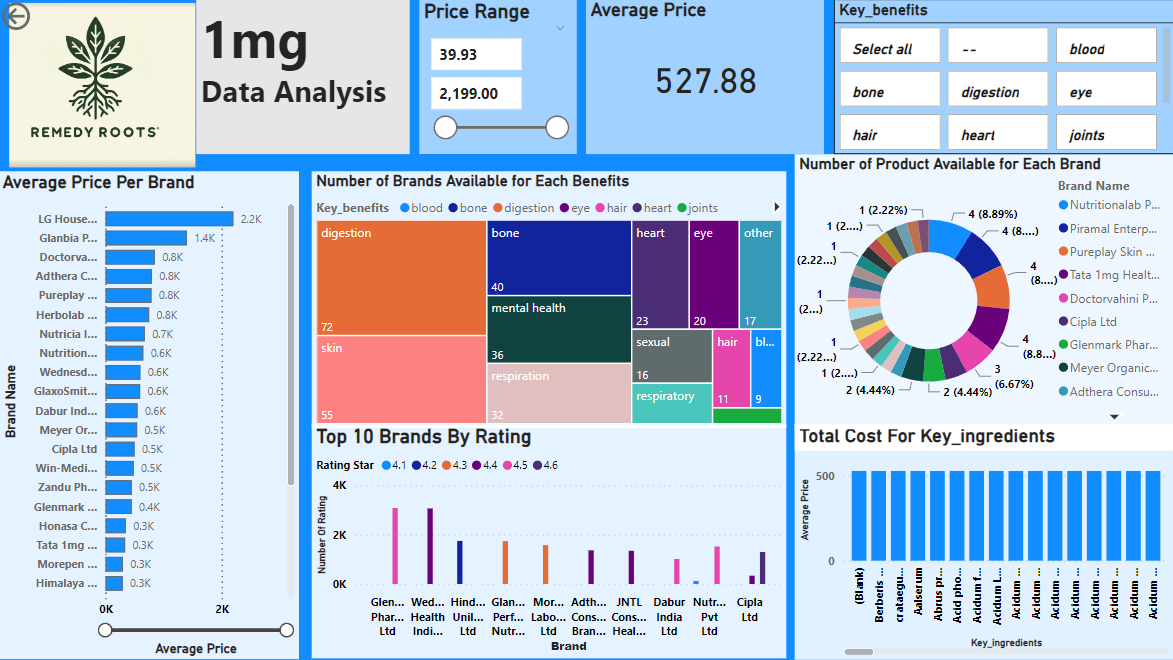

What the dashboard file says about the page in this screenshot:
{"tool":"powerbi","page":{"name":"Page 1","canvas":[1280,720],"ordinal":0},"visuals":[{"type":"image","box":[0,0,227.7,189],"z":0},{"type":"barChart","title":"Average Price Per Brand","fields":{"Category":["merged_file.Brand Name"],"Y":["Avg(merged_file.mrp_bottle)"]},"box":[0,189,327.4,531.3],"z":1000},{"type":"clusteredColumnChart","title":"Total Cost For Key_ingredients","fields":{"Category":["Merge1.Key_ingredients"],"Y":["Avg(merged_file.mrp_bottle)"]},"box":[867.7,464.4,412.3,256],"z":2000},{"type":"donutChart","title":"Number of Product Available for Each Brand ","fields":{"Category":["merged_file.Brand Name"],"Y":["CountNonNull(merged_file.name)"]},"box":[867.7,169.7,412.3,299.2],"z":3000},{"type":"clusteredColumnChart","title":"Top 10 Brands By Rating","fields":{"Category":["merged_file.Brand Name"],"Series":["merged_file.Rating Star"],"Y":["Avg(merged_file.Rating_Number)"]},"box":[340.8,464.4,516.5,254.5],"z":4000},{"type":"treemap","title":"Number of Brands Available for Each Benefits ","fields":{"Values":["CountNonNull(Merge1.brand_name)"],"Details":["Merge1.Key_benefits "]},"box":[340.8,189,516.5,279.8],"z":5000},{"type":"advancedSlicerVisual","title":"Key_benefits  ","fields":{"Values":["Merge1.Key_benefits "]},"box":[909.4,1.5,370.6,168.2],"z":6000},{"type":"card","title":"Average Price","fields":{"Values":["Avg(merged_file.mrp_bottle)"]},"box":[640,0,259,169.7],"z":6001},{"type":"slicer","title":"Price Range","fields":{"Values":["merged_file.mrp_bottle"]},"box":[458.4,1.5,171.2,168.2],"z":6002},{"type":"textbox","box":[215.8,0,232.2,169.7],"z":6003},{"type":"actionButton","box":[0,0,100,40],"z":6004}]}

Visuals, with their boxes in screenshot pixels (x1, y1, x2, y2), scaled from the page's 1280x720 canvas onto the 1173x660 screenshot:
image: [0, 0, 209, 173]
"Average Price Per Brand" barChart: [0, 173, 300, 659]
"Total Cost For Key_ingredients" clusteredColumnChart: [795, 426, 1172, 659]
"Number of Product Available for Each Brand " donutChart: [795, 156, 1172, 430]
"Top 10 Brands By Rating" clusteredColumnChart: [312, 426, 786, 659]
"Number of Brands Available for Each Benefits " treemap: [312, 173, 786, 430]
"Key_benefits  " advancedSlicerVisual: [833, 1, 1172, 156]
"Average Price" card: [586, 0, 824, 156]
"Price Range" slicer: [420, 1, 577, 156]
textbox: [198, 0, 411, 156]
actionButton: [0, 0, 92, 37]
